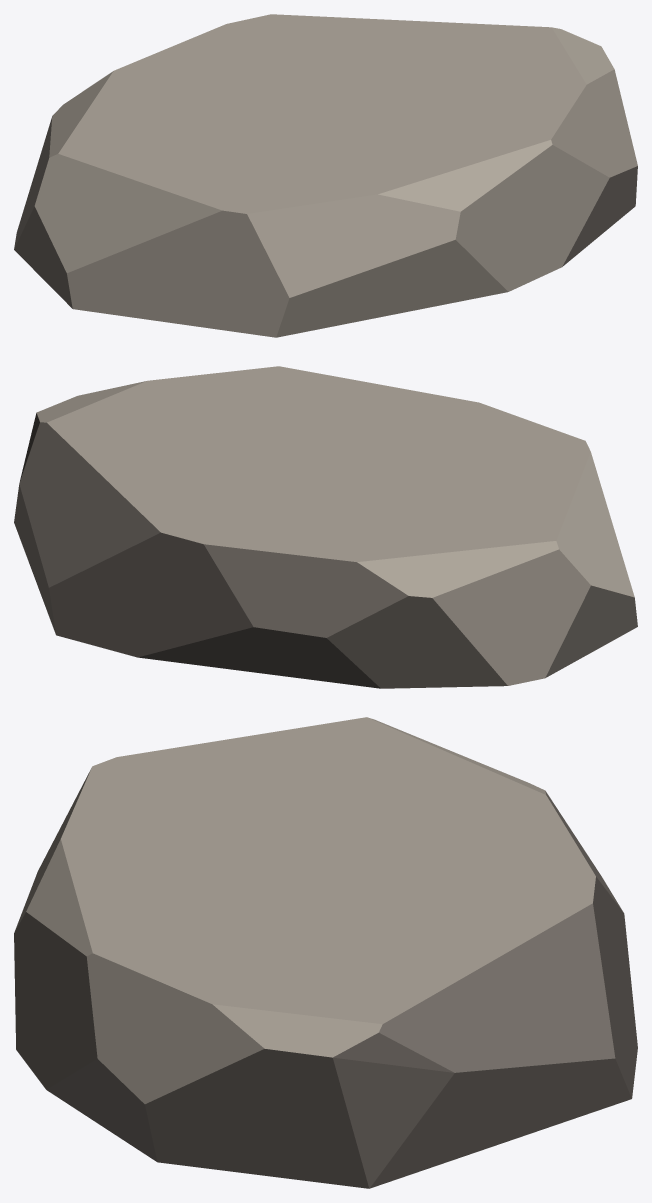
Rendered from FMS_Rock_Flat.fbx.
3 renders of one model, top to bottom at view 1: azimuth 30°, elevation 25°; view 2: azimuth 150°, elevation 25°; view 3: azimuth 270°, elevation 25°, orthographic. The views are drawn at different scales.
Parts seen in each view (by area): view 1: FMS_Rock_Flat; view 2: FMS_Rock_Flat; view 3: FMS_Rock_Flat.
Part boxes in pixels (bbox=[...]): FMS_Rock_Flat: bbox=[14, 14, 637, 337]; FMS_Rock_Flat: bbox=[14, 366, 637, 688]; FMS_Rock_Flat: bbox=[14, 717, 637, 1188].
Size of the model in its own units: 0.8 by 0.15 by 0.6.
